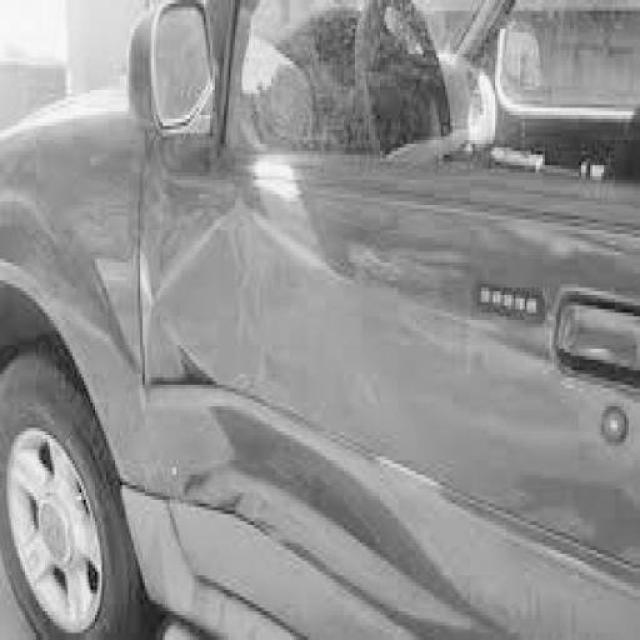car damage: (142, 199, 474, 640)
